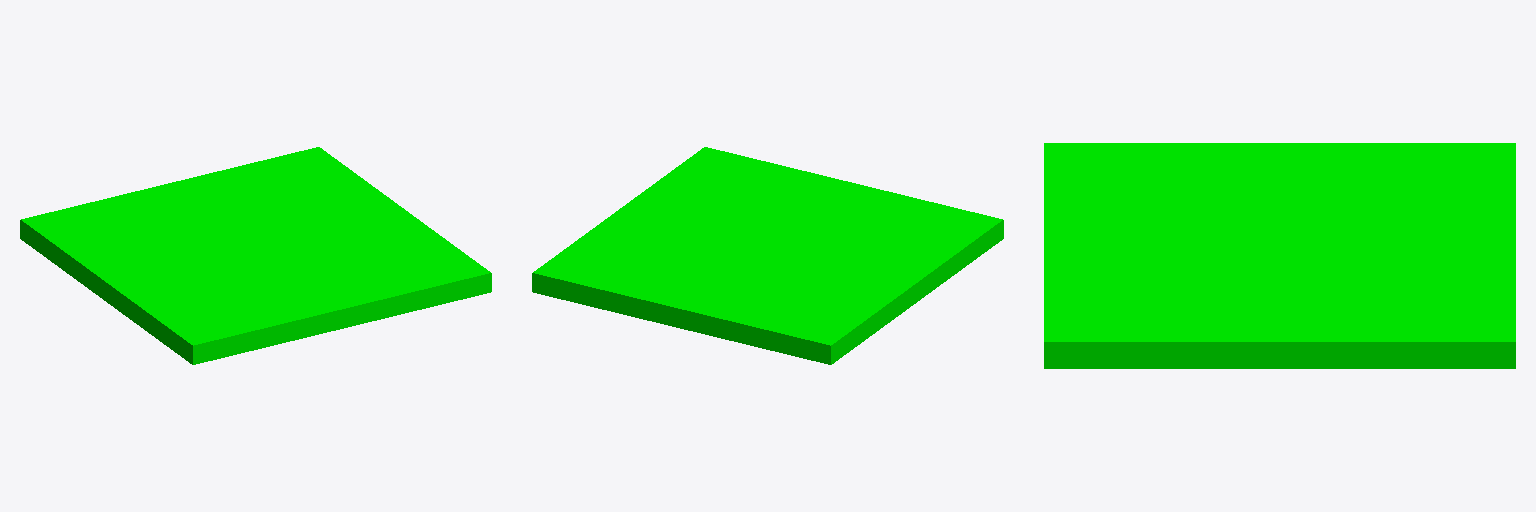
The robot description file, URDF, robot "cube.urdf":
<?xml version="0.0" ?>
<robot name="cube.urdf">
  <link name="baseLink">
    <contact>
      <lateral_friction value="50.0"/>
      <inertia_scaling value="3.0"/>
    </contact>
    <inertial>
      <origin rpy="0 0 0" xyz="0 0 0"/>
       <mass value=".0"/>
       <inertia ixx="1" ixy="0" ixz="0" iyy="1" iyz="0" izz="1"/>
    </inertial>
    <visual>
      <origin rpy="0 0 0" xyz="0 0 0"/>
      <geometry>
<!--				<mesh filename="../meshes/cube.obj" scale=".08 .08 .005"/>-->
				<box size=".08 .08 .005"/>
      </geometry>
       <material name="green">
        <color rgba="0 1 0 1"/>
      </material>
    </visual>
    <!--
    <collision>
      <origin rpy="0 0 0" xyz="0 0 0"/>
      <geometry>
	 	<box size=".08 .08 .005"/>
      </geometry>
    </collision>
    -->
  </link>
</robot>

--- Facts derived from the render (not from the file) ---
3 views of the same robot in one strip: view 1: azimuth 30°, elevation 25°; view 2: azimuth 150°, elevation 25°; view 3: azimuth 270°, elevation 25° (orthographic).
Model cube.urdf with 1 links and 0 joints (none), rooted at baseLink, posed all joints at 0.
Links seen in each view (by area): view 1: baseLink; view 2: baseLink; view 3: baseLink.
Link boxes in pixels (x1,y1,x2,y2): baseLink: (20, 147, 491, 364); baseLink: (532, 147, 1003, 364); baseLink: (1044, 143, 1515, 368).
Size in the robot's own frame: 0.08 by 0.08 by 0.005 metres.
Geometry: primitives only (box / cylinder / sphere), no mesh files.